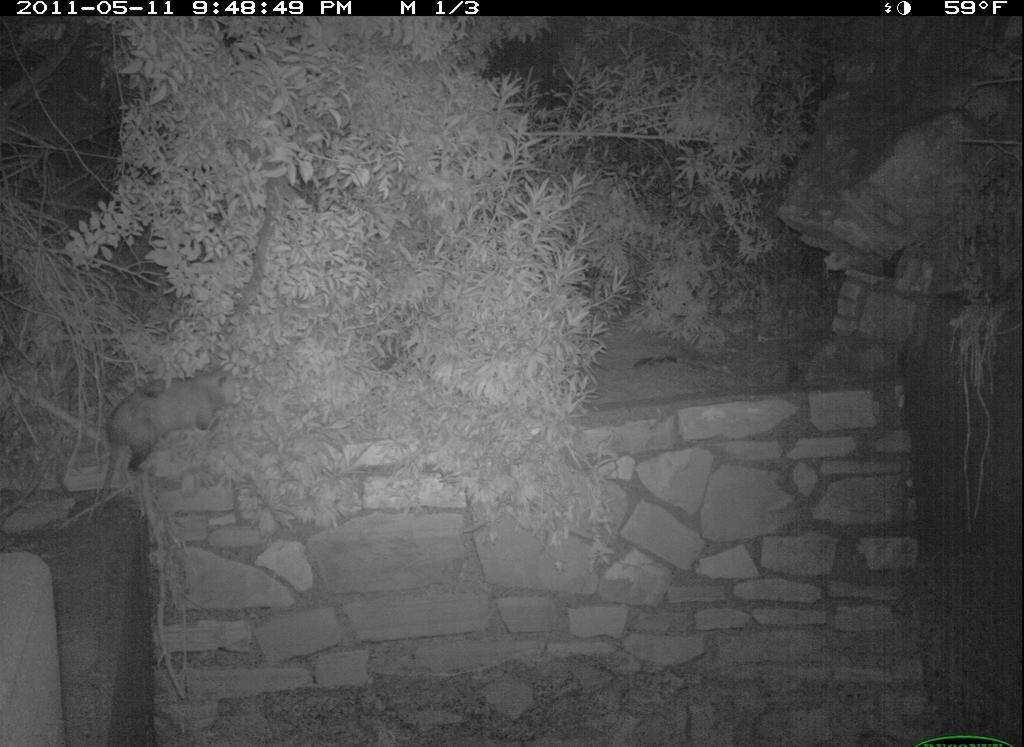opossum: (93, 361, 237, 483)
